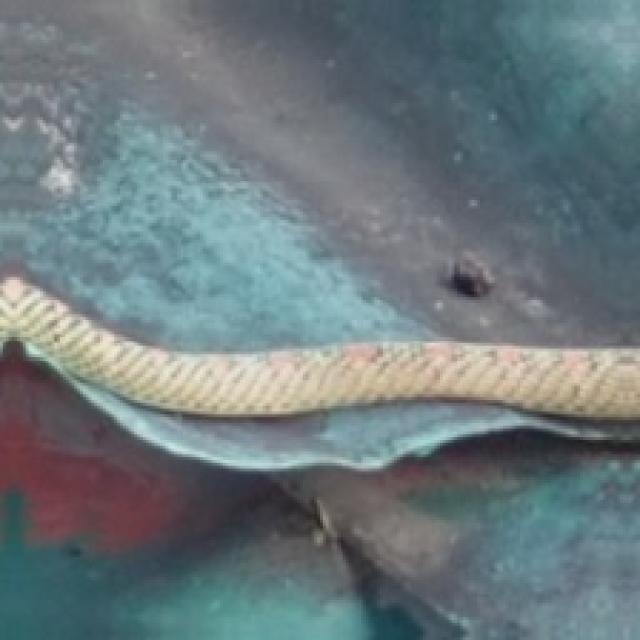paradise tree snake: (0, 277, 637, 469), (269, 397, 531, 437)
